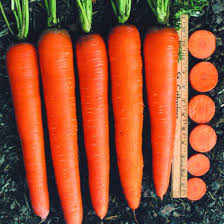carrot: (100, 12, 146, 213), (35, 24, 77, 223), (144, 11, 186, 206), (4, 40, 47, 211), (77, 22, 110, 213)
